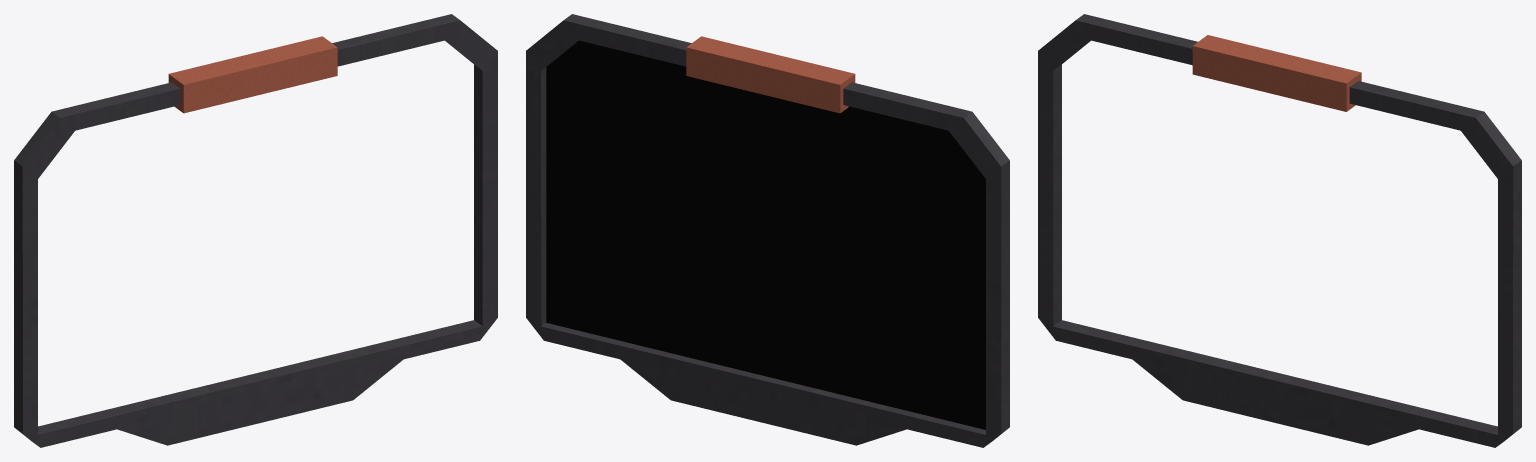
3 renders of one model, left to right at view 1: azimuth 30°, elevation 25°; view 2: azimuth 150°, elevation 25°; view 3: azimuth 330°, elevation 25°, orthographic.
Visible parts, largest first — view 1: console_screen_0; view 2: console_screen_0; view 3: console_screen_0.
Part boxes in pixels (<box>): console_screen_0: <box>14,14,497,447</box>; console_screen_0: <box>526,14,1009,447</box>; console_screen_0: <box>1038,14,1521,447</box>.
Bounding box in the file's own units: 1.22 × 0.8852 × 0.0676.
Materials: 2 (1 with a texture image).
